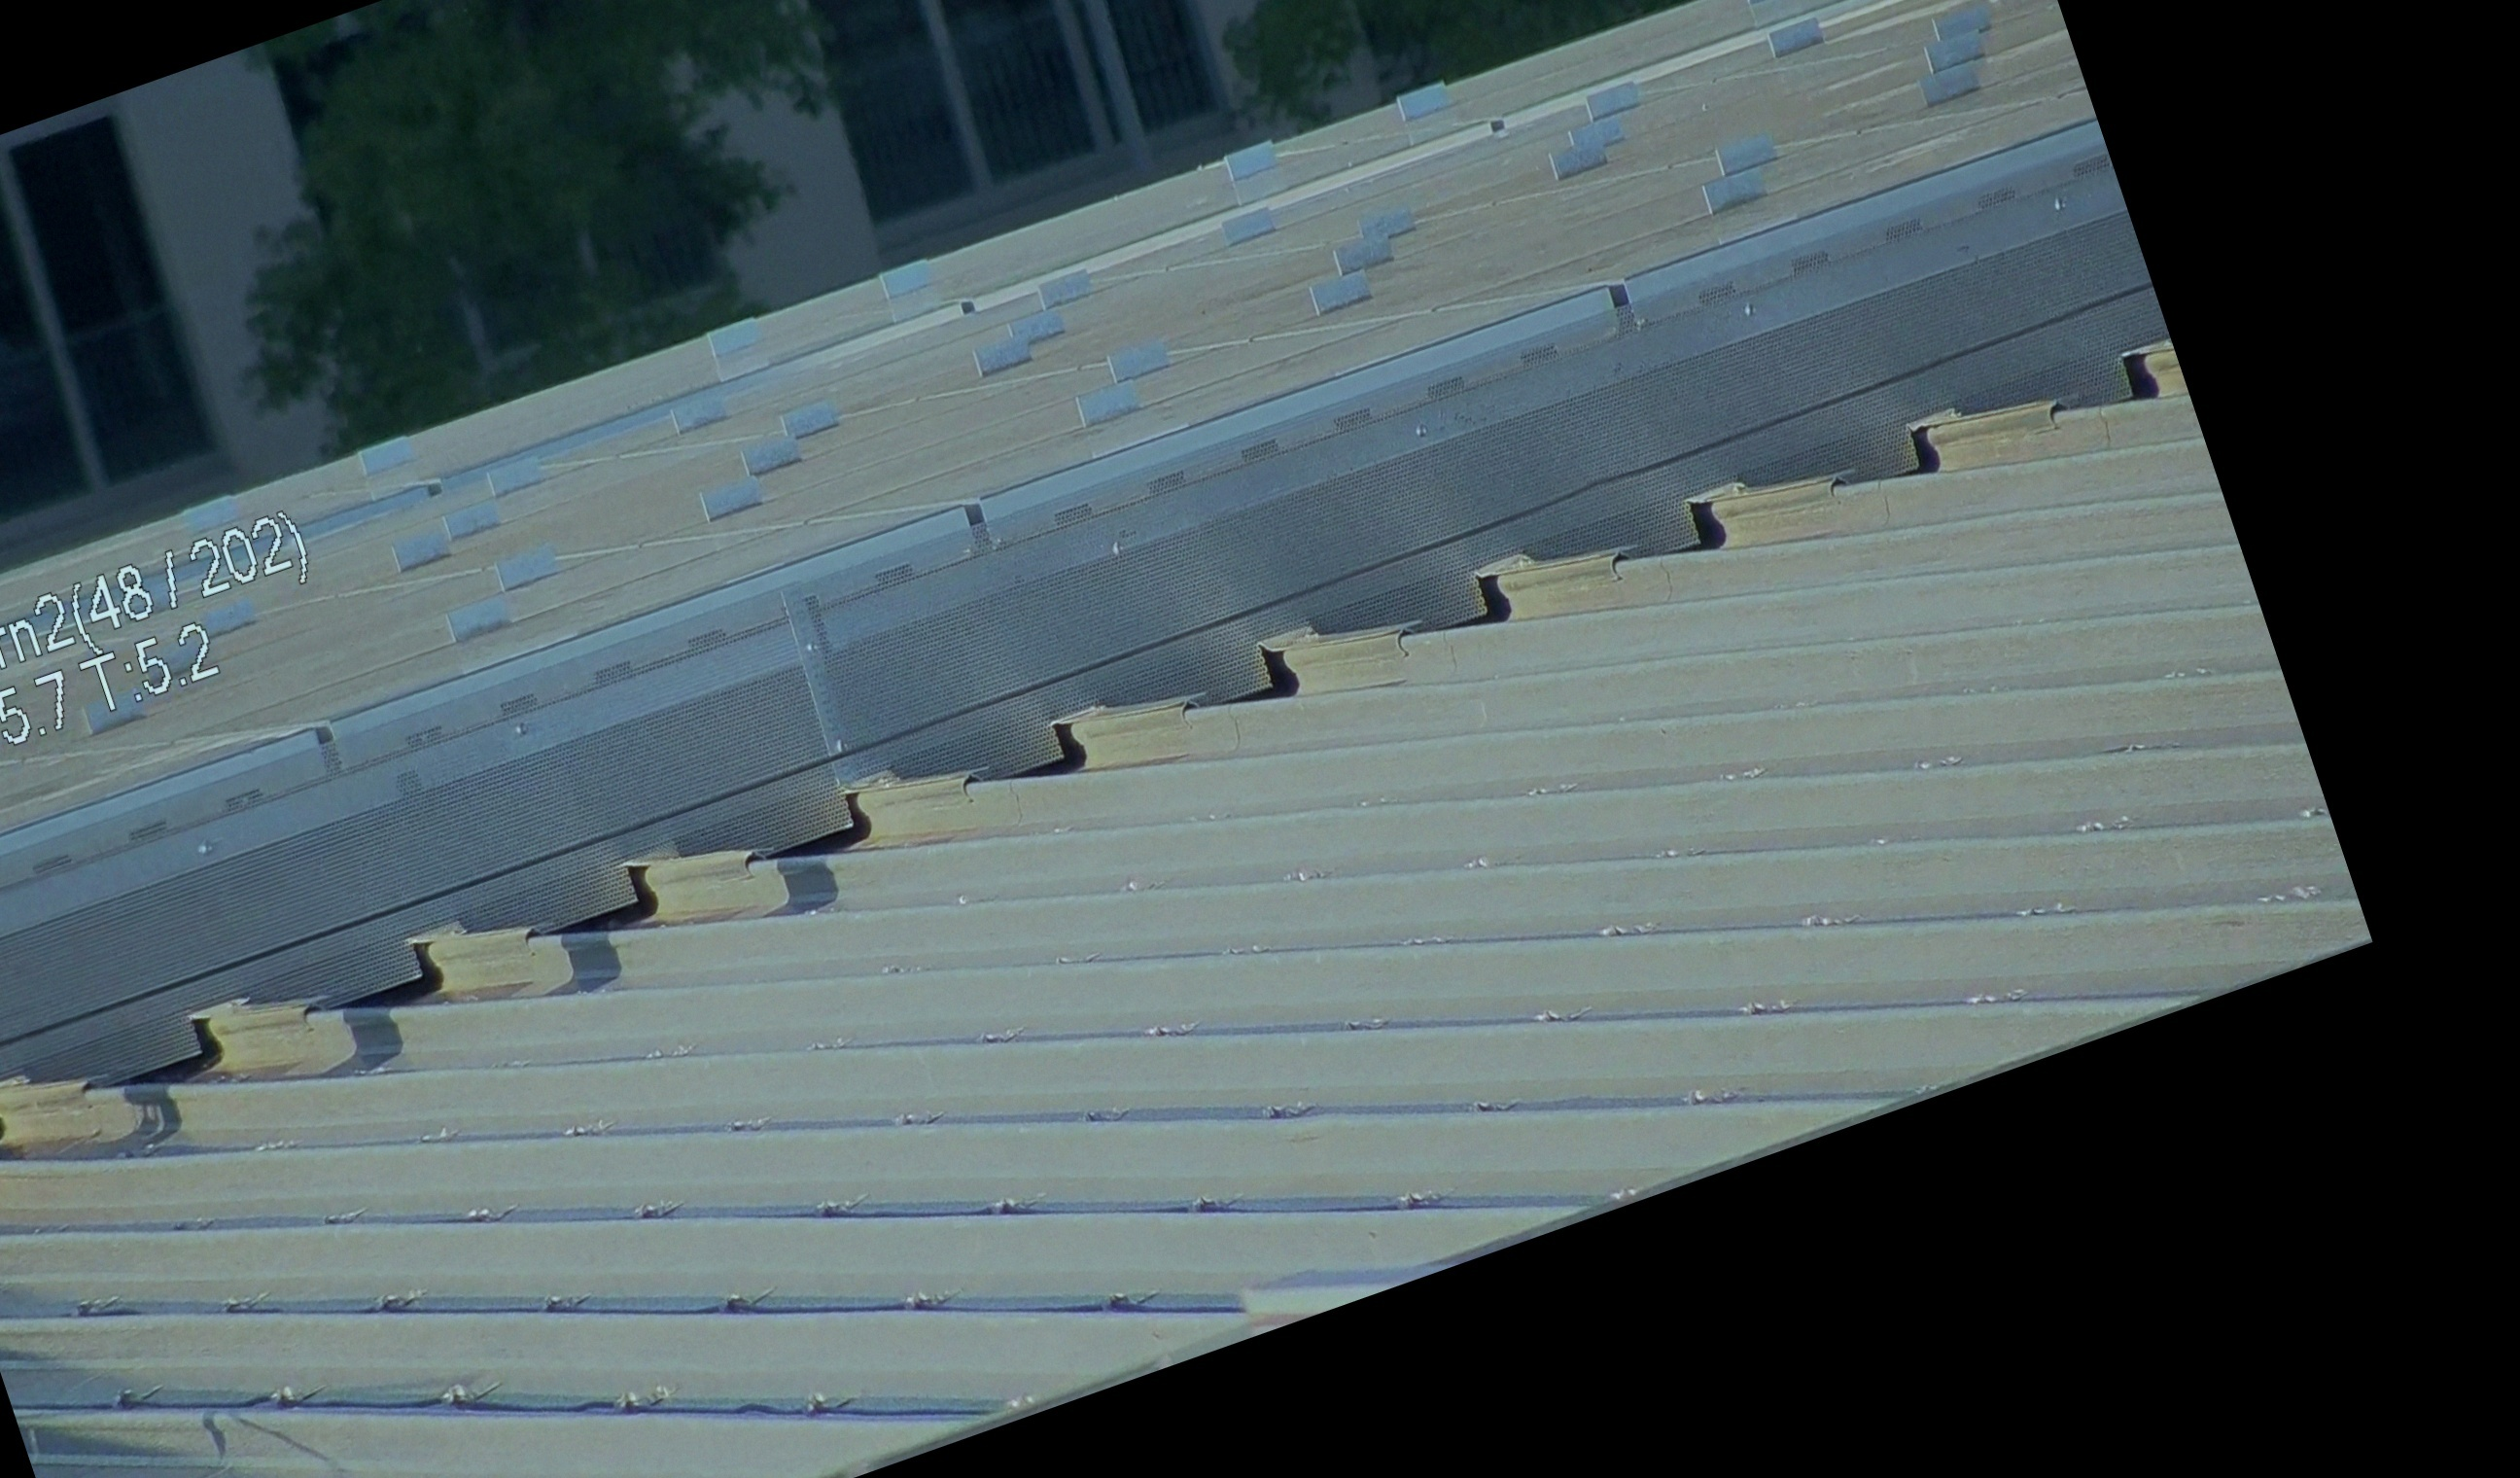Other: (1233, 625, 1308, 716)
